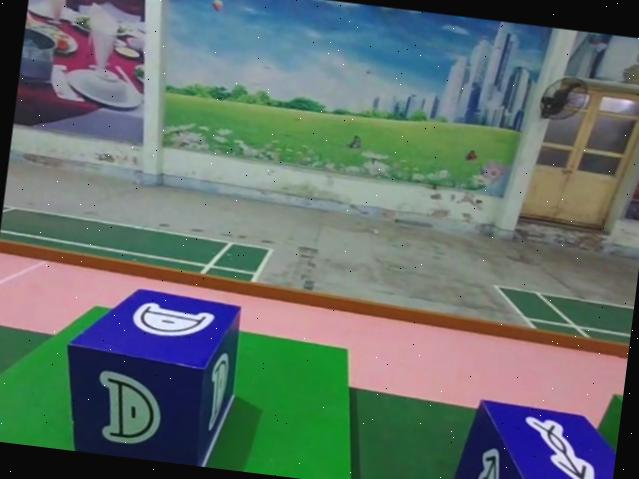R2 Real Blue: (56, 276, 246, 469), (450, 393, 620, 479)
